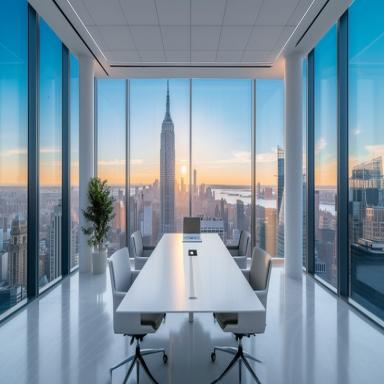glass_panel: (349, 3, 384, 325), (191, 81, 251, 252), (132, 80, 188, 252), (0, 1, 27, 311), (315, 24, 338, 287), (131, 82, 165, 255), (38, 21, 60, 286), (39, 21, 60, 282), (256, 80, 284, 261), (97, 80, 126, 254), (166, 81, 188, 237), (69, 50, 78, 269), (302, 55, 310, 267)
